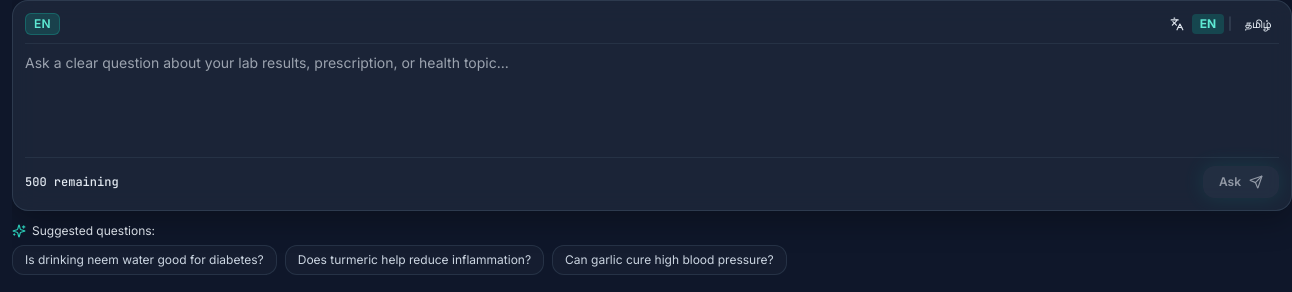
Query Interaction Layer Component Tests › QueryInput Component › populates query from suggestion chip click
Click the button with test id "suggestion-chip-0": (144, 260) [12,245,277,275]
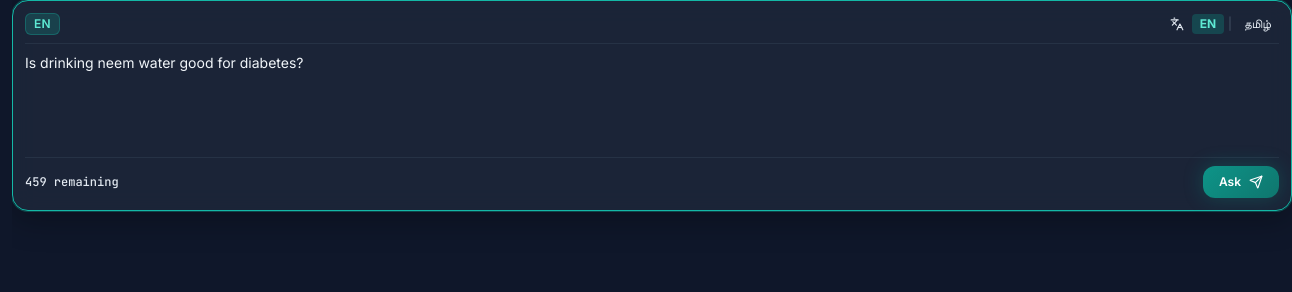
Now the text box with test id "query-textarea" holds "Is drinking neem water good for diabetes?", box [25,52,1279,143]
